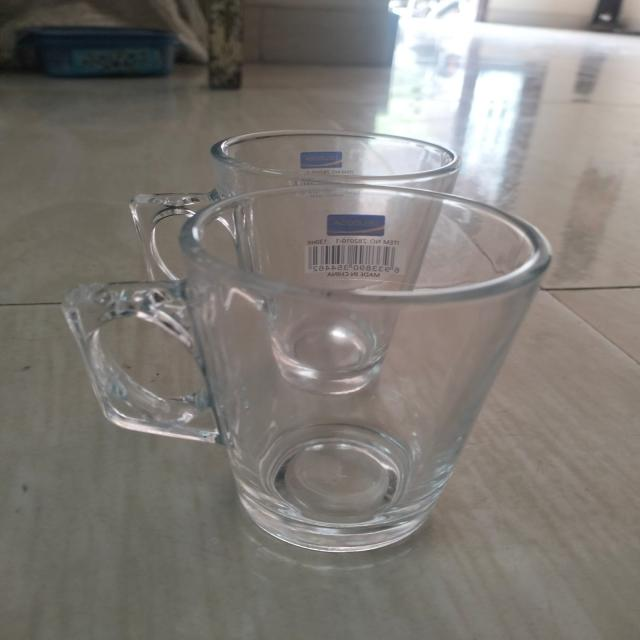glass-VX4N: (68, 177, 553, 561), (126, 127, 473, 403)
